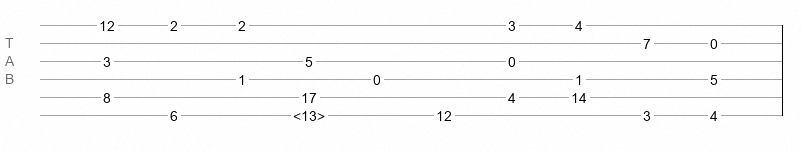0: (373, 72, 381, 82), (508, 54, 516, 64), (710, 36, 718, 46)
1: (238, 72, 246, 82), (575, 72, 583, 82)
12: (99, 18, 115, 28), (436, 108, 452, 118)
14: (571, 90, 587, 100)
17: (301, 90, 317, 100)
2: (170, 18, 178, 28), (238, 18, 246, 28)
3: (103, 54, 111, 64), (508, 18, 516, 28), (643, 108, 651, 118)
4: (508, 90, 516, 100), (575, 18, 583, 28), (710, 108, 718, 118)
5: (305, 54, 313, 64), (710, 72, 718, 82)
6: (170, 108, 178, 118)
7: (643, 36, 651, 46)
8: (103, 90, 111, 100)
harmonic: (293, 108, 325, 118)
